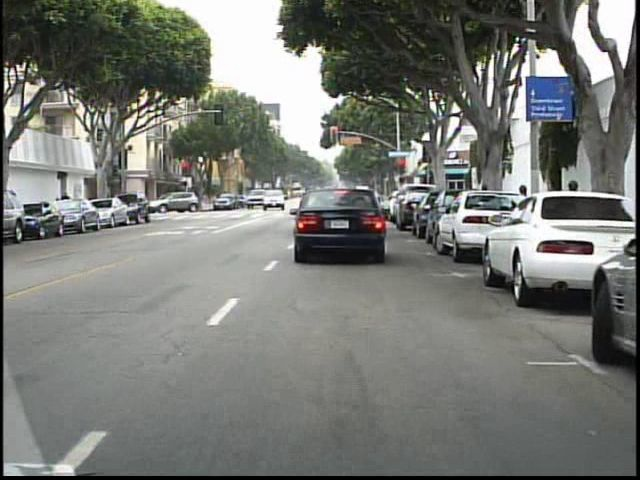person: (57, 186, 75, 224), (158, 190, 173, 217)
